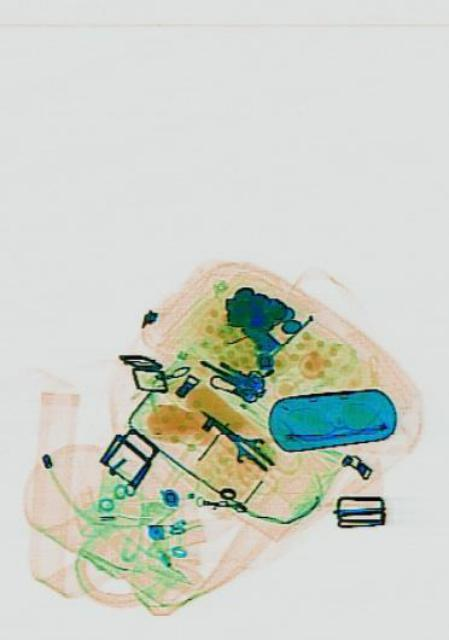Knife: (194, 396, 277, 480)
